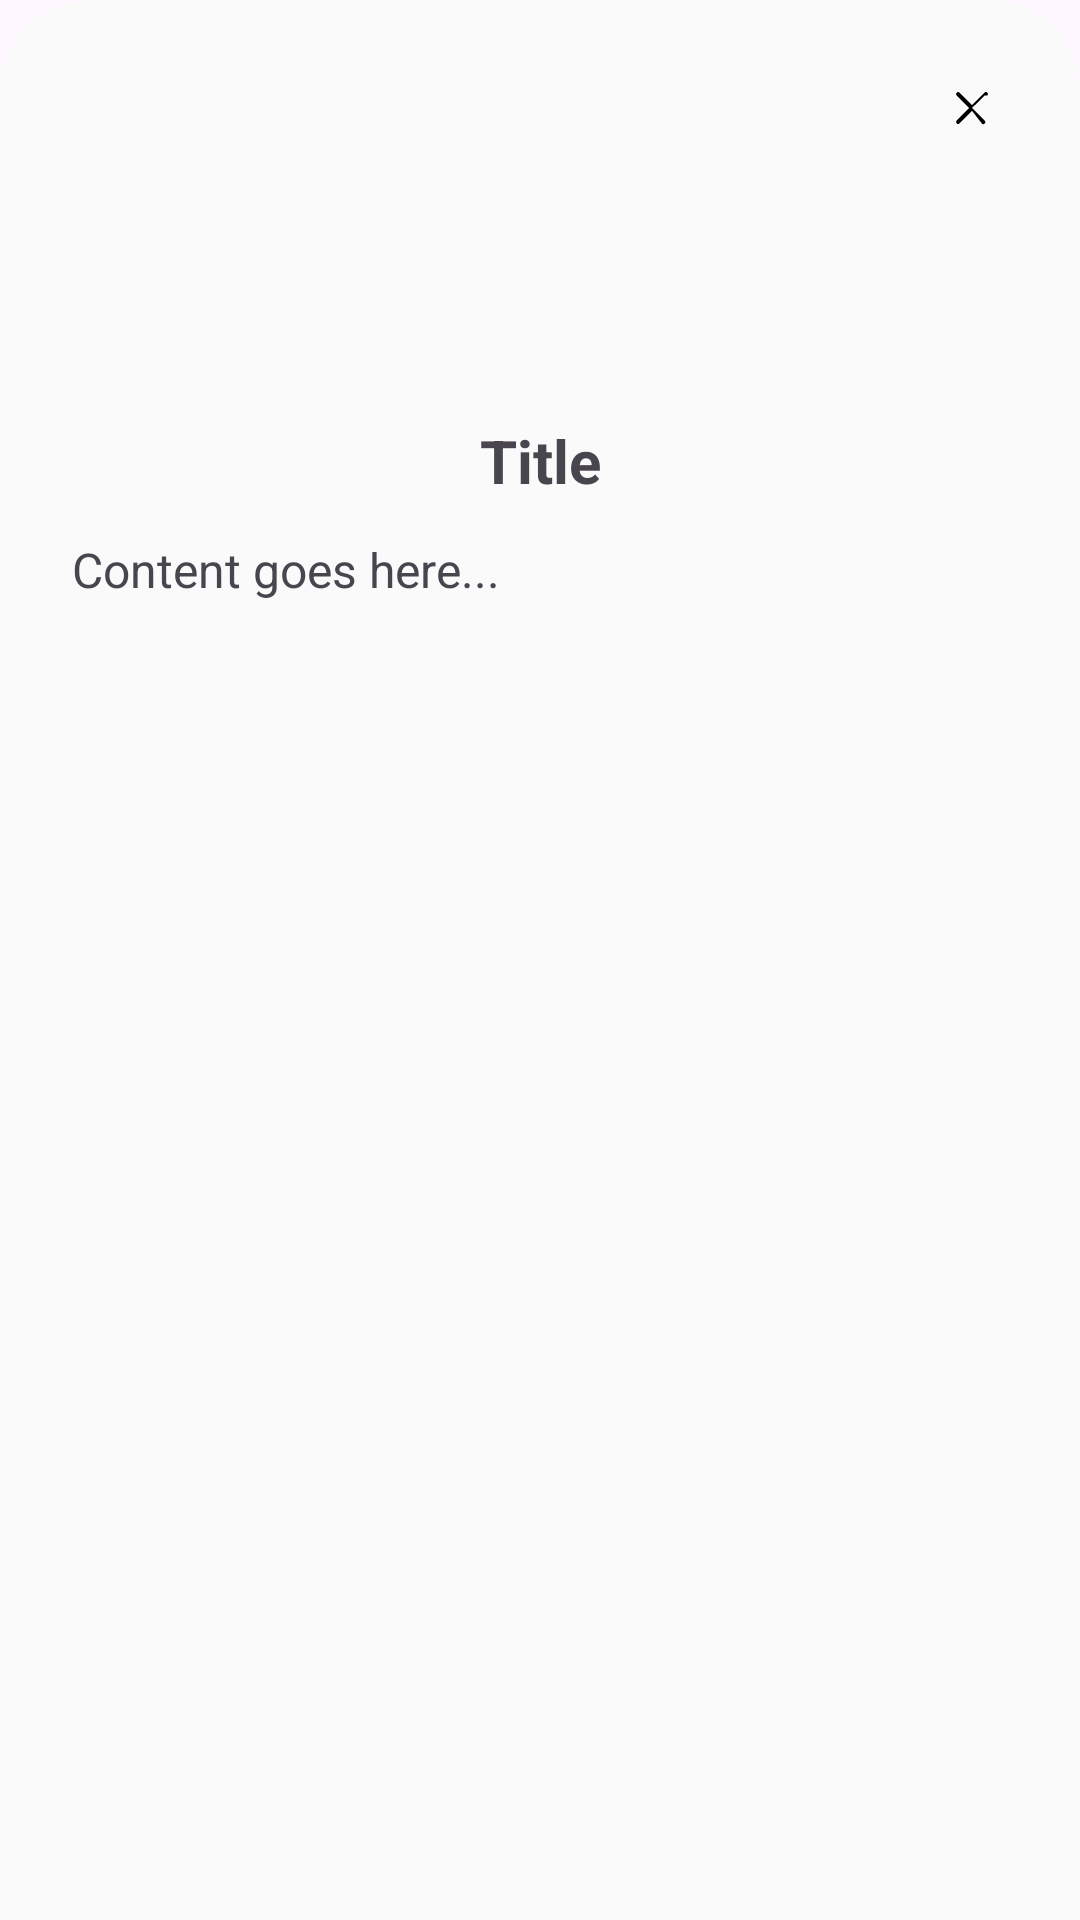

Where icons sit on this 1080x1920 app screen, as [x1,y1,x2,y2]:
Close: [956,92,988,125]
